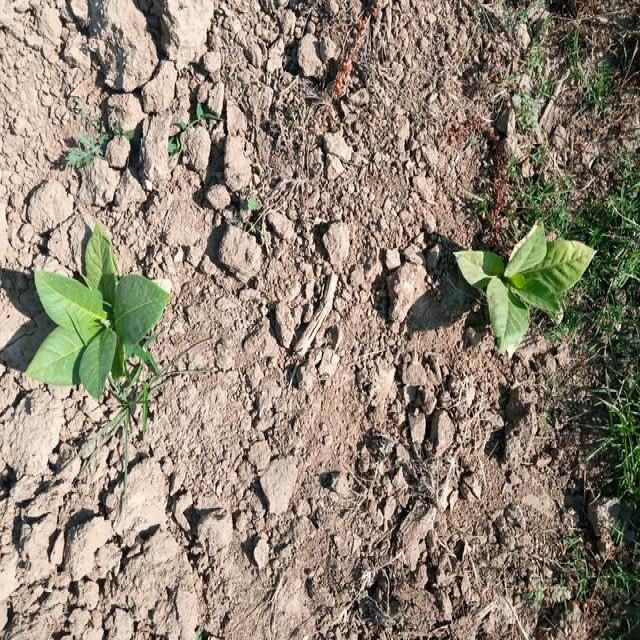crop: (36, 234, 163, 398), (440, 217, 596, 350)
